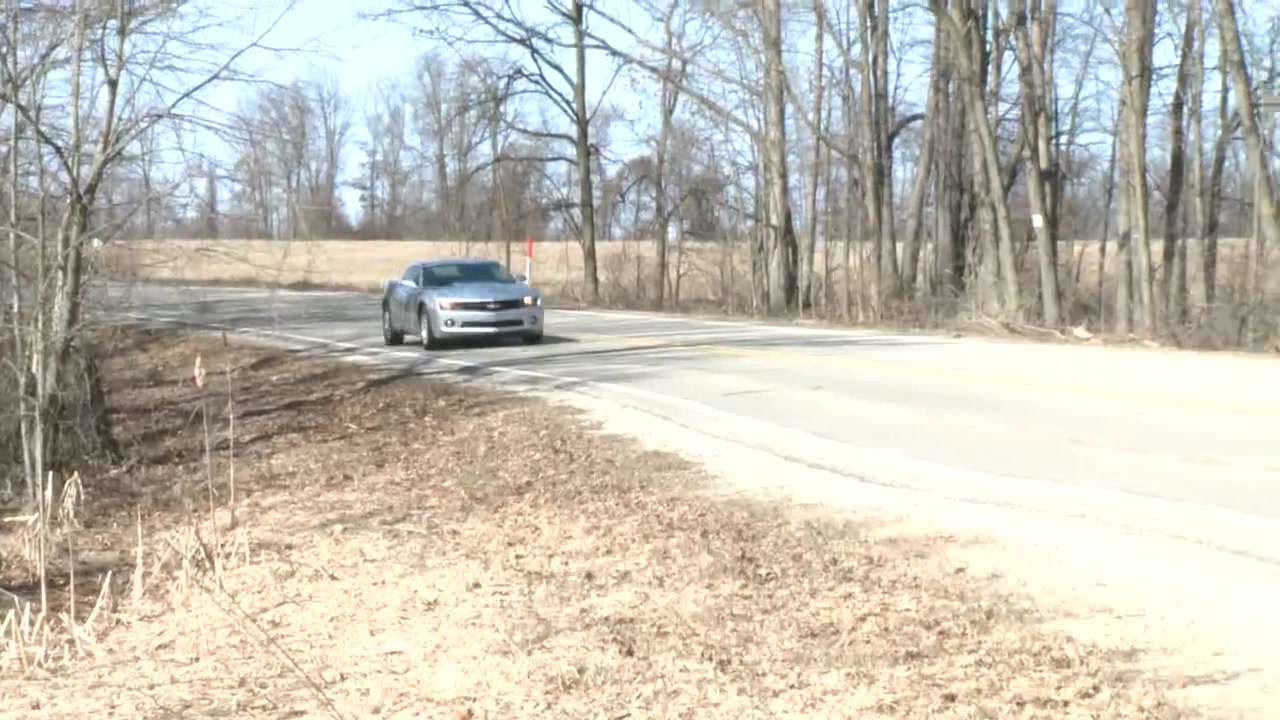car: (380, 259, 548, 352)
